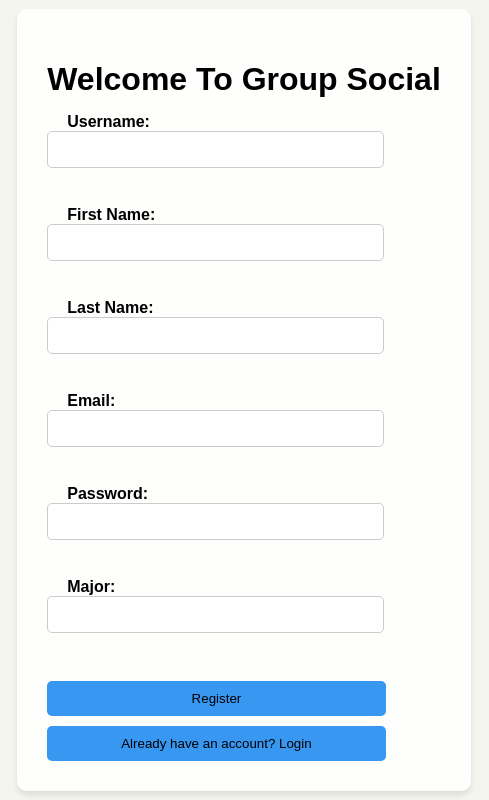
Test: Register Component › handles the registration process
Type "newuser" into the field labelled "Username:". click: (216, 149)
box: [47,131,384,168]
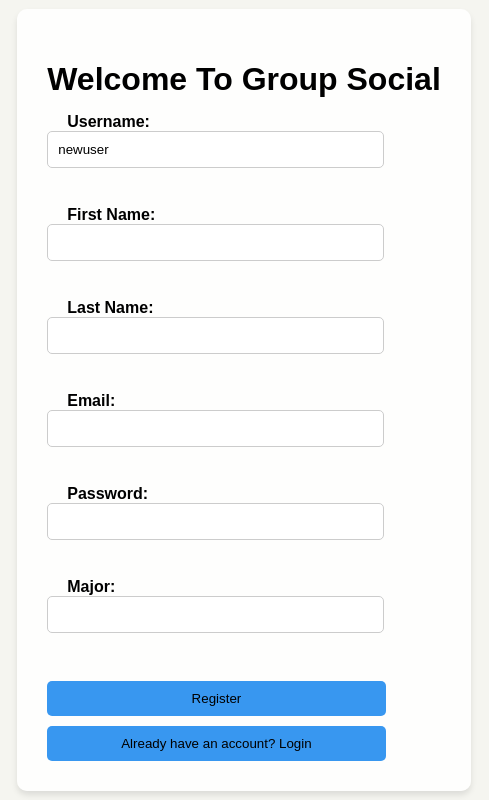
Type "newpassword" into the password field labelled "Password:". click: (216, 521)
box: [47,503,384,540]
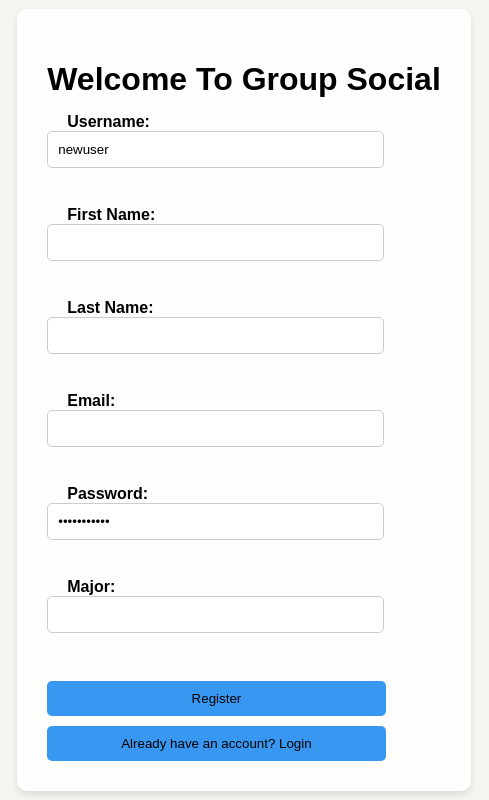
Type "new@example.com" into the field labelled "Email:". click: (216, 428)
box: [47,410,384,447]
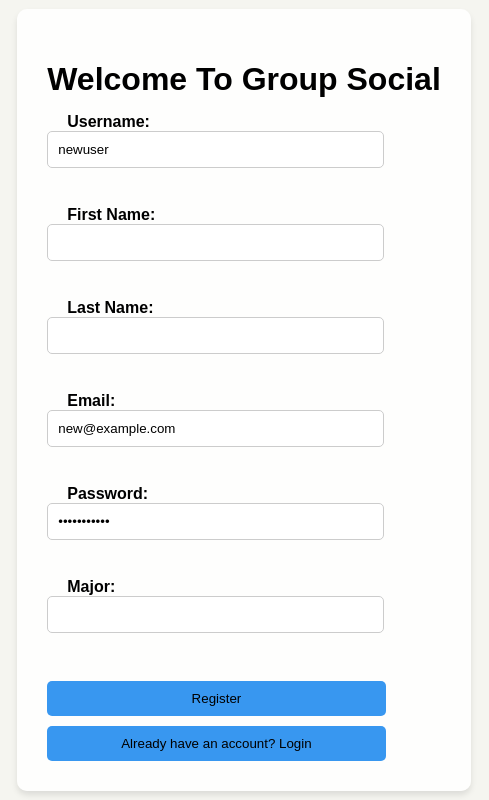
Click the button "Register". click: (216, 698)
box: [47,681,386,716]
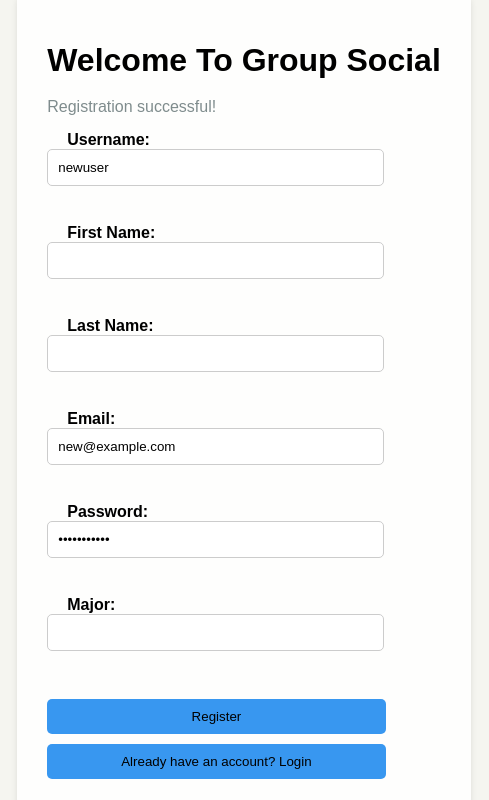
Result: the text "Registration successful!" is shown at [47,98,216,115]
